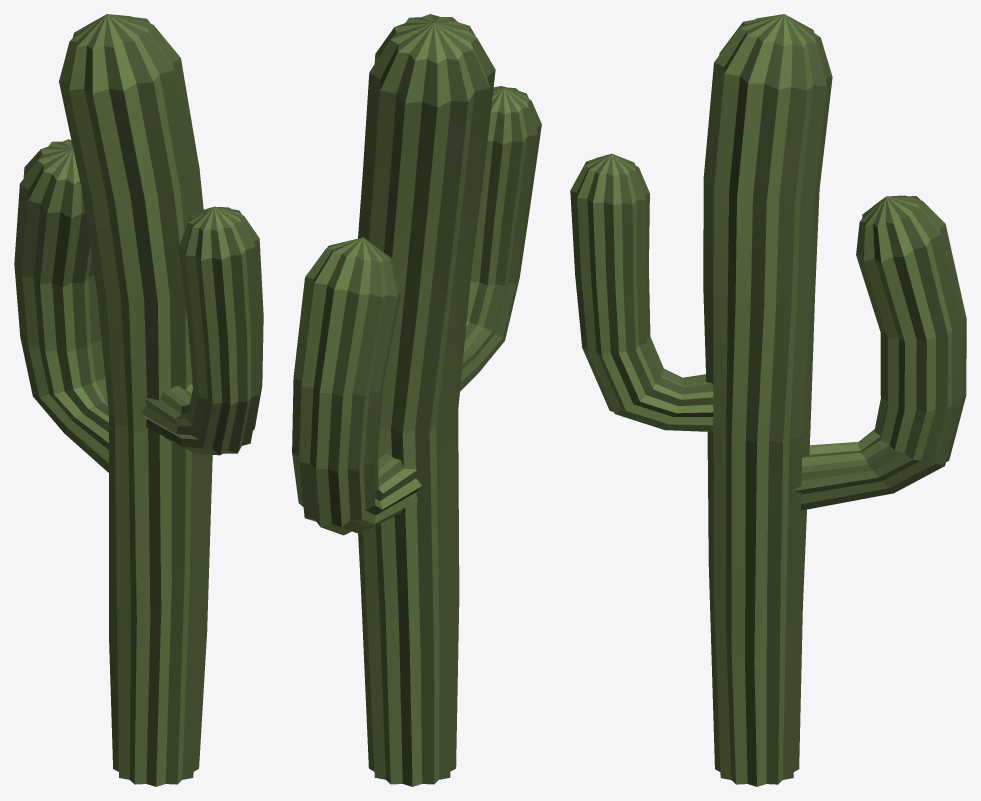
Rendered from cactus_001.fbx.
3 renders of one model, left to right at view 1: azimuth 30°, elevation 25°; view 2: azimuth 150°, elevation 25°; view 3: azimuth 270°, elevation 25°, orthographic. The views are drawn at different scales.
Parts seen in each view (by area): view 1: SM_Env_Cactus_01; view 2: SM_Env_Cactus_01; view 3: SM_Env_Cactus_01.
Part boxes in pixels (x1,y1,x2,y2): SM_Env_Cactus_01: (14, 14, 263, 786); SM_Env_Cactus_01: (292, 14, 541, 786); SM_Env_Cactus_01: (570, 14, 966, 786).
Size of the model in its own units: 48.18 by 126 by 260.
1 material, 1 textured.
